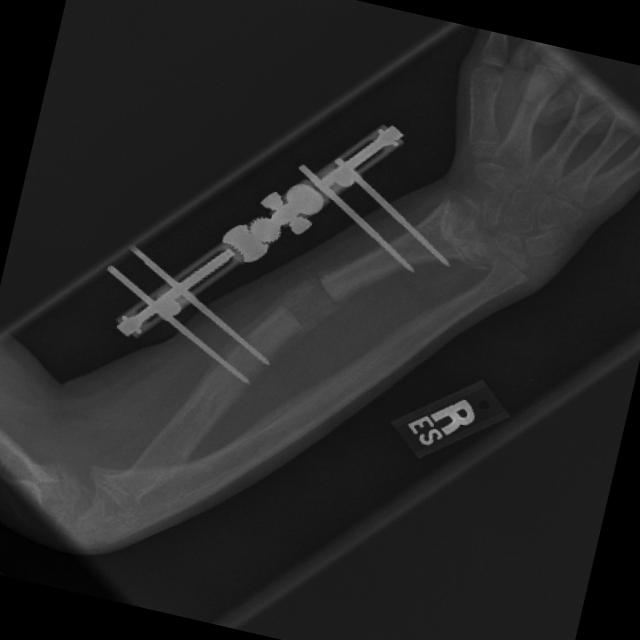forearm fracture: (234, 240, 390, 380)
